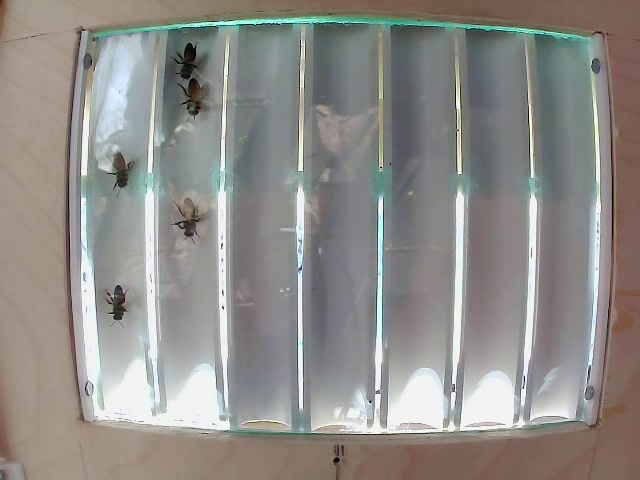bee: (100, 139, 140, 208), (171, 190, 211, 258), (104, 269, 137, 329), (186, 75, 210, 130), (176, 44, 200, 86)
